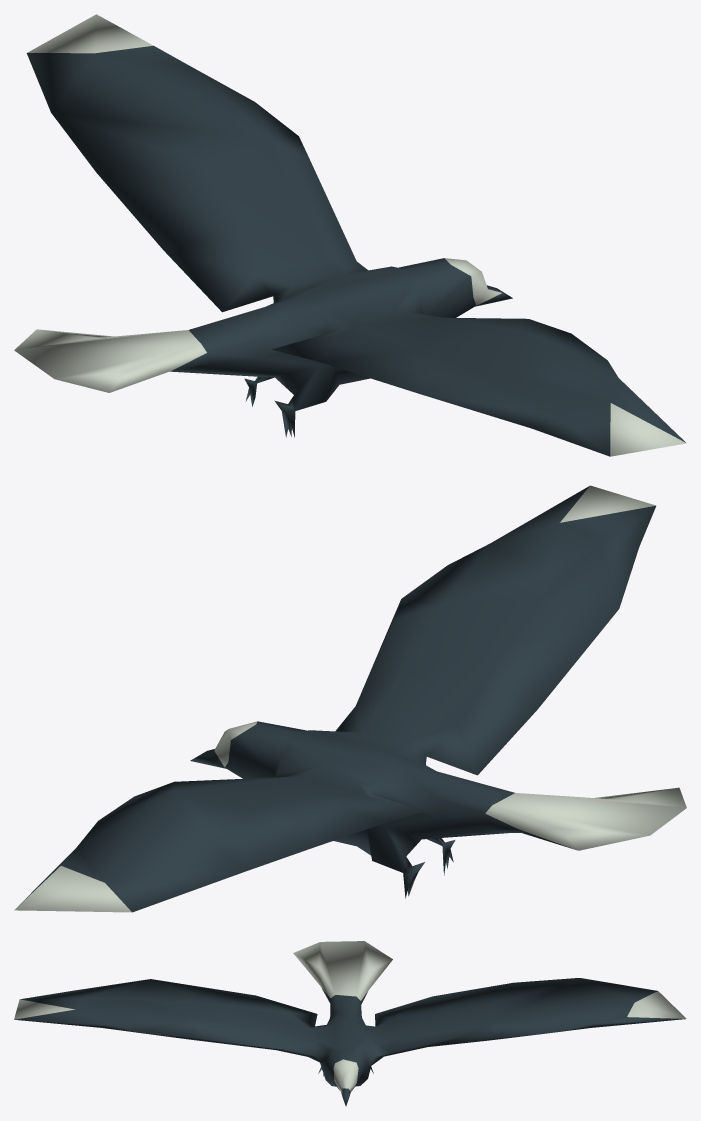
File: Bird.glb
3 renders of one model, top to bottom at view 1: azimuth 30°, elevation 25°; view 2: azimuth 150°, elevation 25°; view 3: azimuth 270°, elevation 25°, orthographic. The views are drawn at different scales.
Parts seen in each view (by area): view 1: Bird; view 2: Bird; view 3: Bird.
Part boxes in pixels (left/top/right/bottom): Bird: left=14, top=14, right=686, bottom=456; Bird: left=14, top=485, right=686, bottom=912; Bird: left=14, top=941, right=686, bottom=1106.
Bounding box in the file's own units: 0.2869 × 0.0975 × 0.6043.
1 material, 1 textured.
